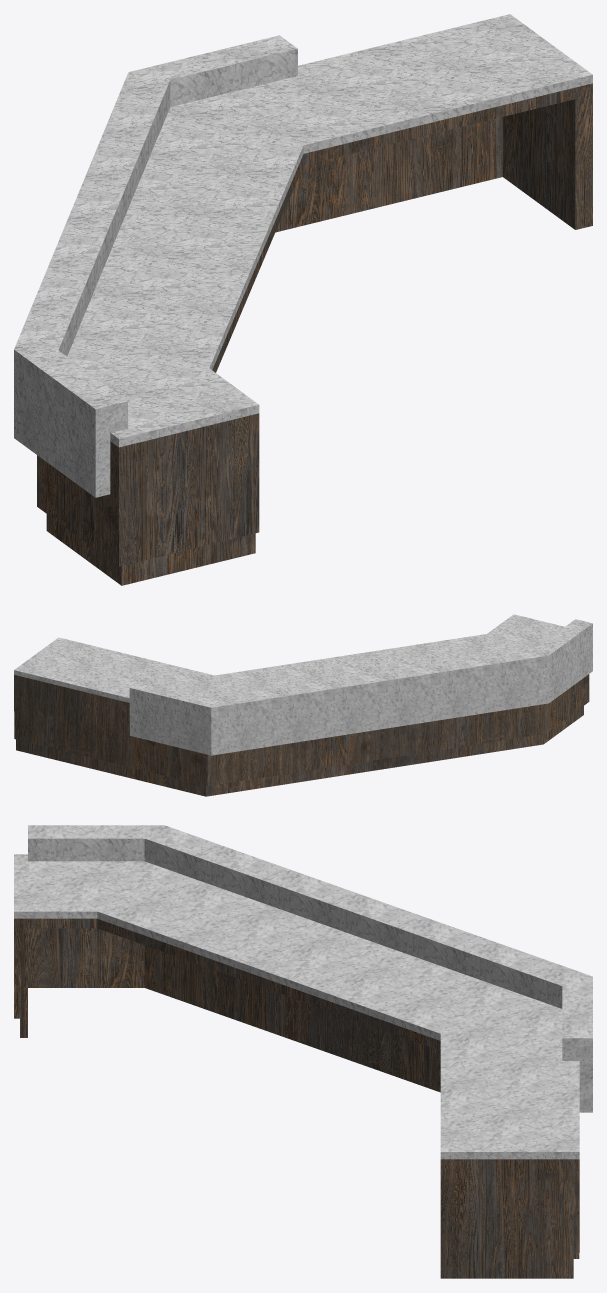
Rendered from FrontDesk.fbx.
3 views of the same model, one above another, from view 1: azimuth 30°, elevation 25°; view 2: azimuth 150°, elevation 25°; view 3: azimuth 270°, elevation 25° (orthographic). The views are drawn at different scales.
Parts seen in each view (by area): view 1: FrontDesk; view 2: FrontDesk; view 3: FrontDesk.
Boxes of the visible parts, x1,y1,x2,y2 form: FrontDesk: (14,14,592,585); FrontDesk: (14,614,592,796); FrontDesk: (14,825,592,1278).
Bounding box in the file's own units: 423 × 97.02 × 341.
2 materials, 2 textured.
